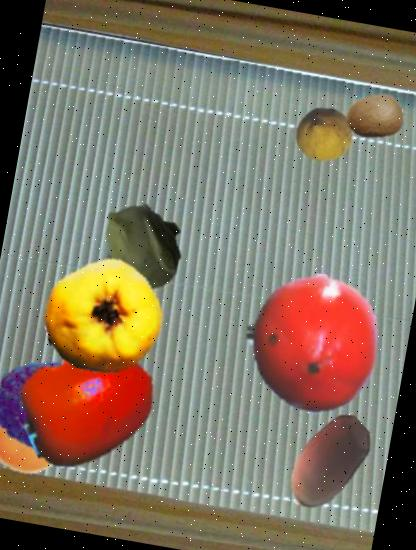Hazelnut: (268, 402, 386, 522)
Kaki: (230, 262, 392, 425), (8, 324, 170, 486)
Kiwi: (342, 83, 408, 150)
Kohlrabi: (89, 190, 197, 298)
Lemon: (290, 100, 358, 167)
Physalis: (0, 370, 91, 486)
Quince: (34, 249, 174, 389)
Raspberry: (0, 348, 96, 459)
